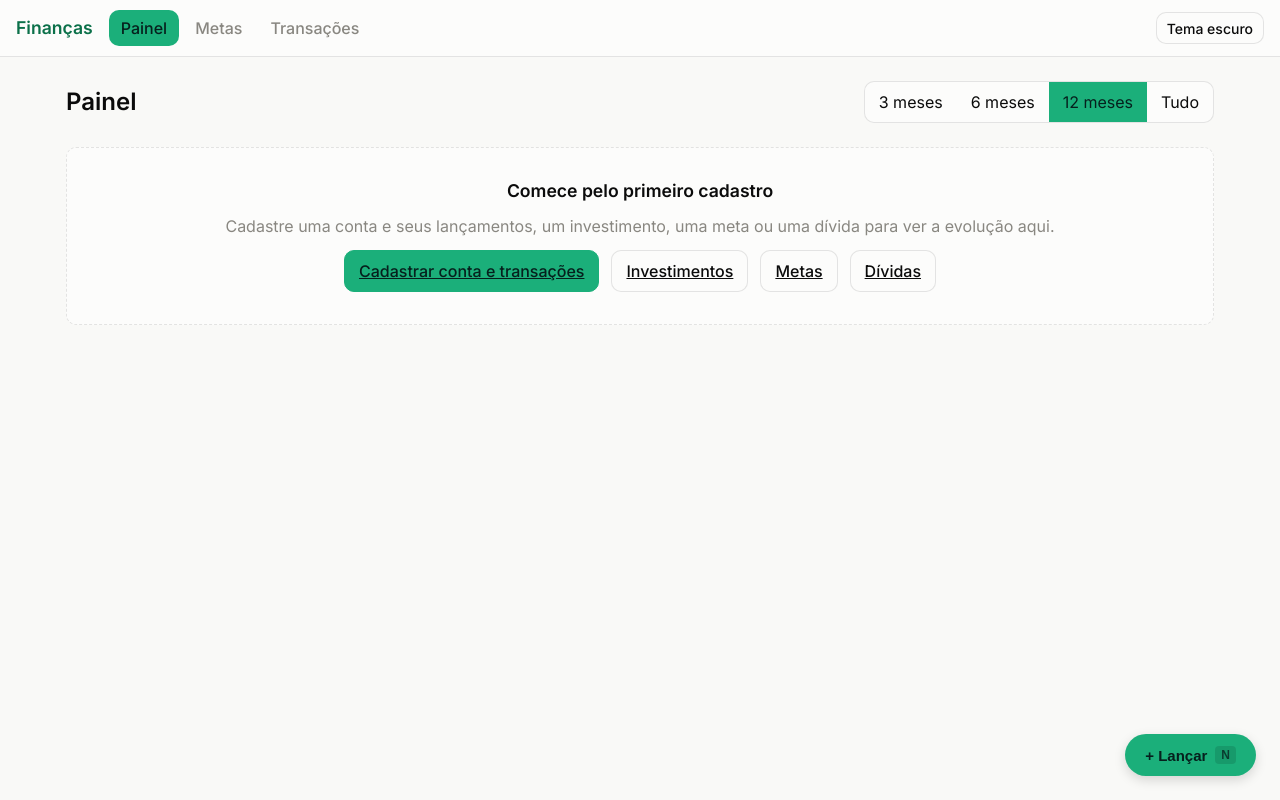
Scenario: App › links the empty dashboard to the registration screens
Step 1. Click the link "Cadastrar conta e transações" → (472, 271), box [344, 250, 600, 292]
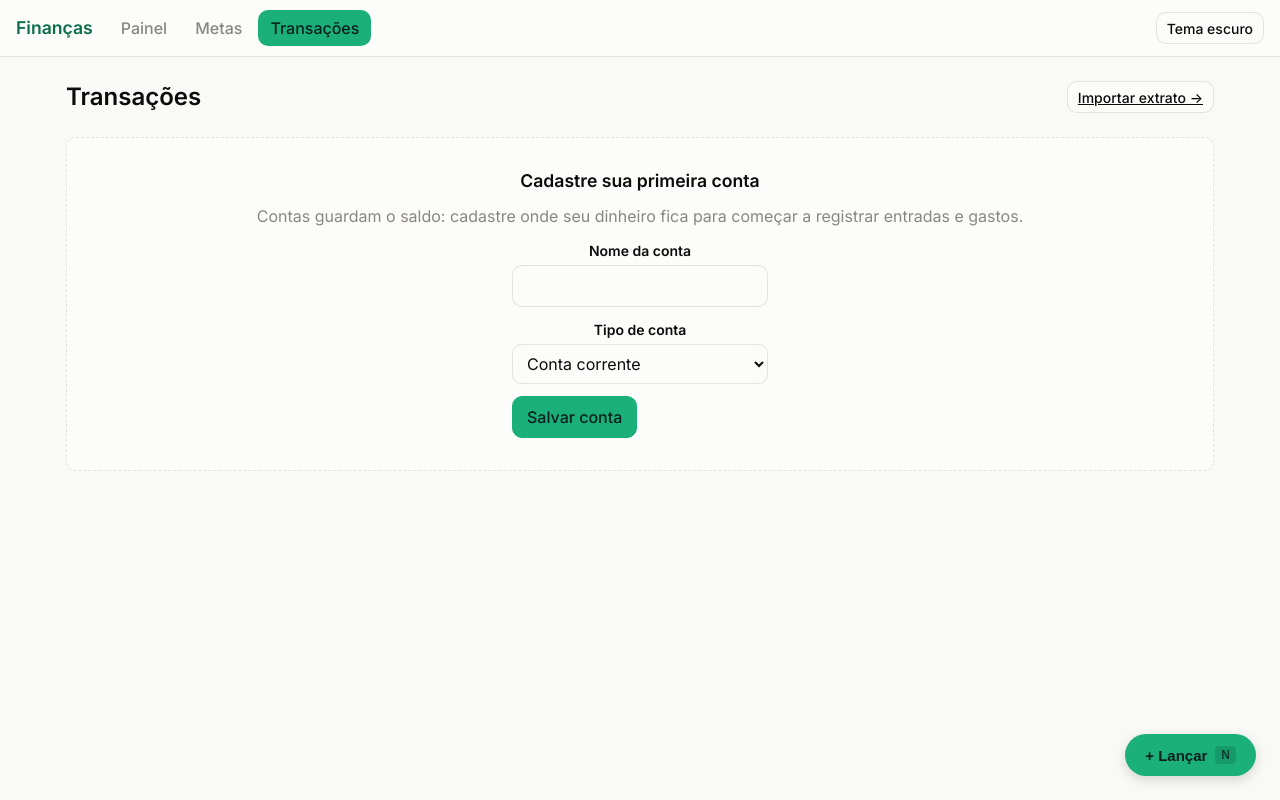
Result: the heading "Transações" is shown at [66, 82, 201, 112]
